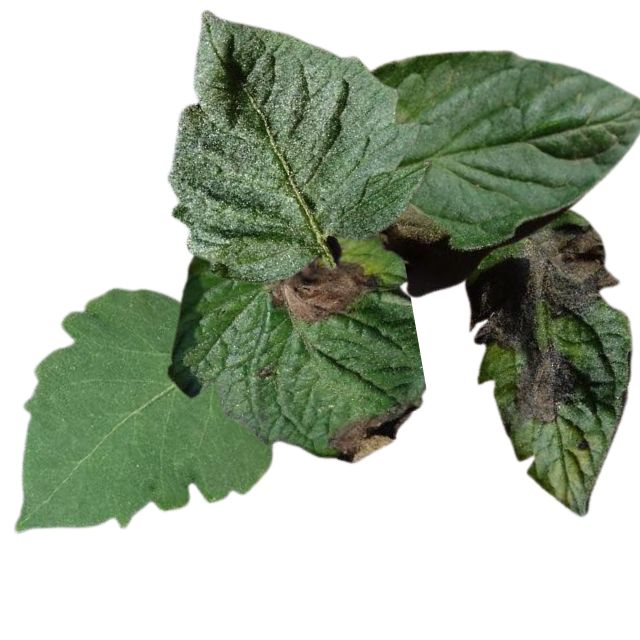Late_blight: (467, 221, 620, 351), (269, 258, 383, 327), (497, 348, 581, 436), (326, 399, 421, 463), (381, 204, 447, 246), (252, 362, 275, 379)
